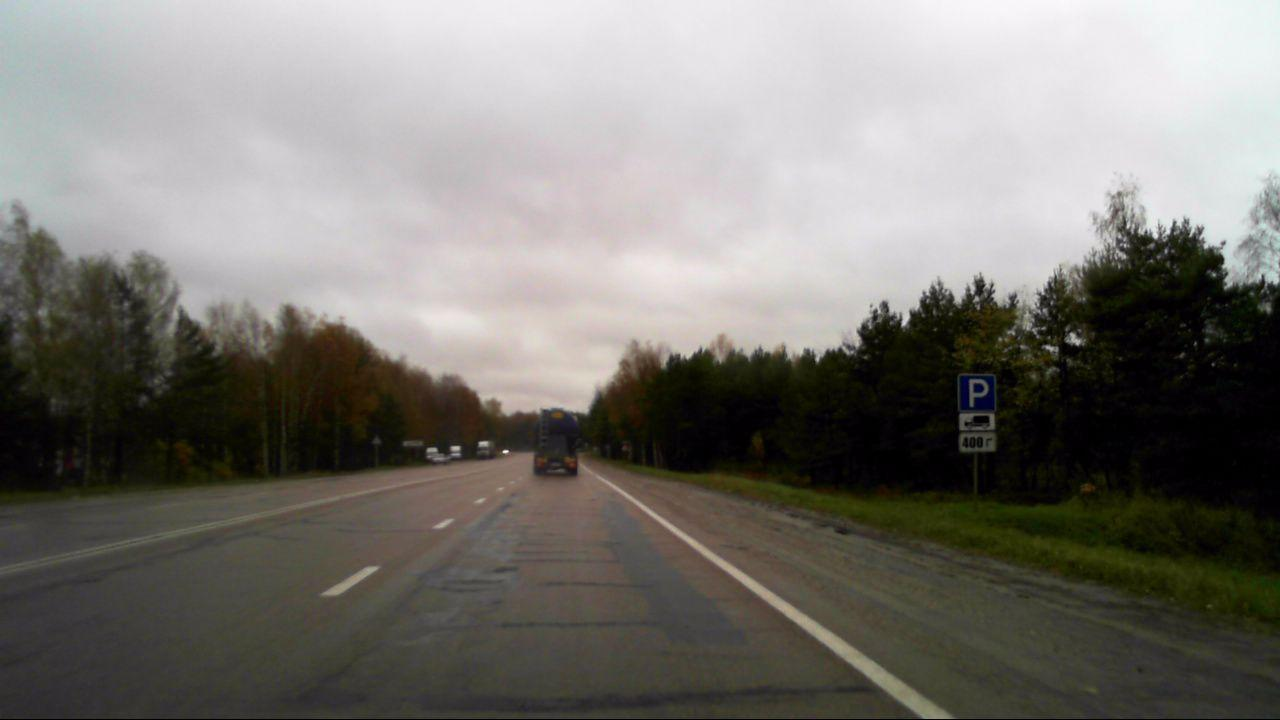6_4: (957, 375, 997, 412)
8_1_1: (960, 433, 996, 451)
8_4_1: (958, 413, 997, 430)
